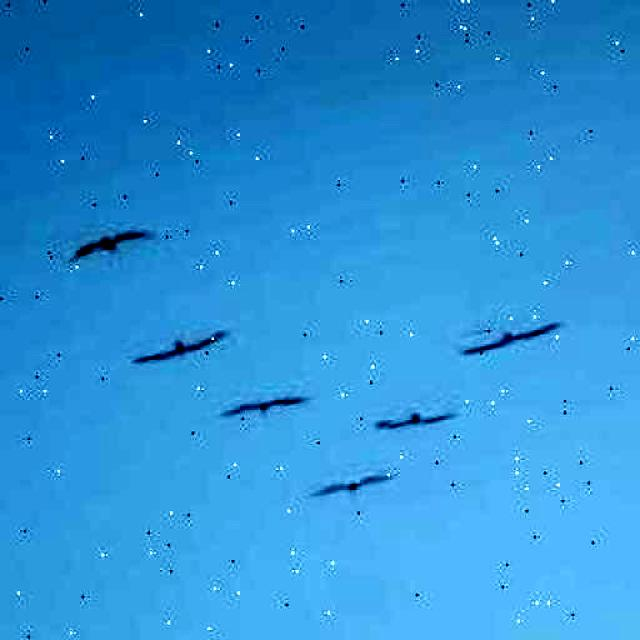airplane: (454, 314, 566, 356), (60, 222, 158, 264), (130, 328, 232, 368), (216, 389, 312, 425), (309, 470, 398, 504), (371, 401, 459, 435)
